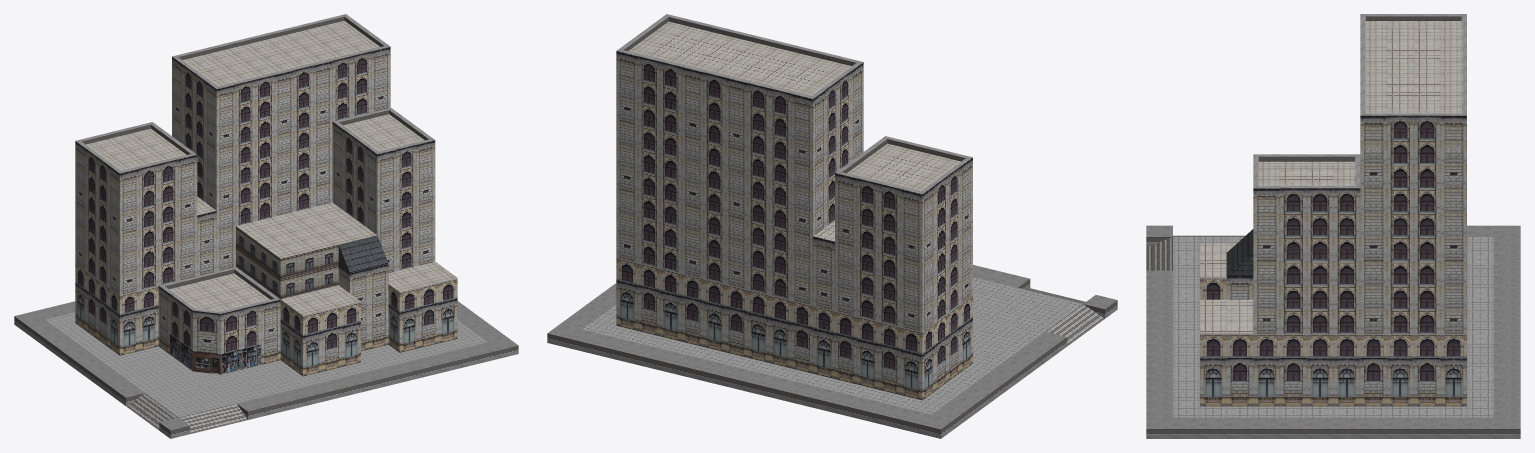
File: building_04_smooth.glb
3 renders of one model, left to right at view 1: azimuth 30°, elevation 25°; view 2: azimuth 150°, elevation 25°; view 3: azimuth 270°, elevation 25°, orthographic. The views are drawn at different scales.
Visible parts, largest first — view 1: building_04_smooth2; view 2: building_04_smooth2; view 3: building_04_smooth2.
Boxes of the visible parts, x1,y1,x2,y2 form: building_04_smooth2: (14,14,518,438); building_04_smooth2: (547,14,1117,438); building_04_smooth2: (1146,14,1520,438).
Bounding box in the file's own units: 90 × 62.08 × 70.
1 material, 1 textured.
